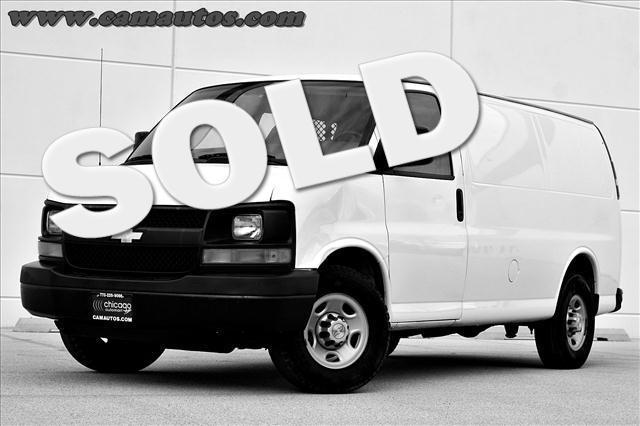car: (19, 72, 624, 397)
